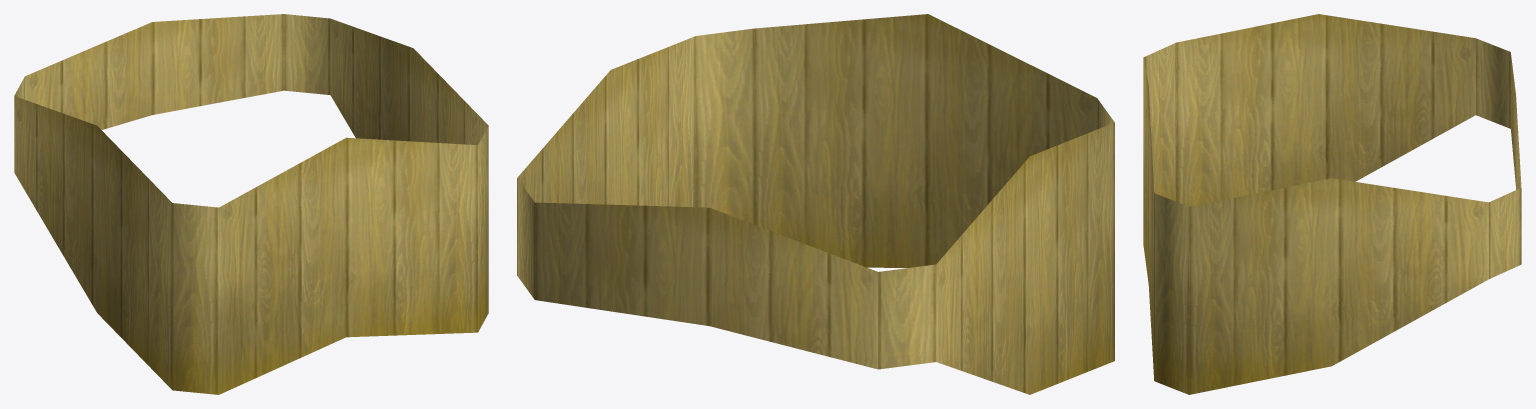
Rendered from HTOWN01_GREENDRAGUPPERWALL01.fbx.
3 views of the same model, side by side, from view 1: azimuth 30°, elevation 25°; view 2: azimuth 150°, elevation 25°; view 3: azimuth 270°, elevation 25° (orthographic). The views are drawn at different scales.
Parts seen in each view (by area): view 1: HTOWN01_GREENDRAGUPPERWALL01; view 2: HTOWN01_GREENDRAGUPPERWALL01; view 3: HTOWN01_GREENDRAGUPPERWALL01.
Part boxes in pixels (x1,y1,x2,y2): HTOWN01_GREENDRAGUPPERWALL01: [14, 14, 488, 394]; HTOWN01_GREENDRAGUPPERWALL01: [517, 14, 1114, 394]; HTOWN01_GREENDRAGUPPERWALL01: [1143, 14, 1521, 394].
Bounding box in the file's own units: 16932 × 11203 × 16644.
1 material, 1 textured.
